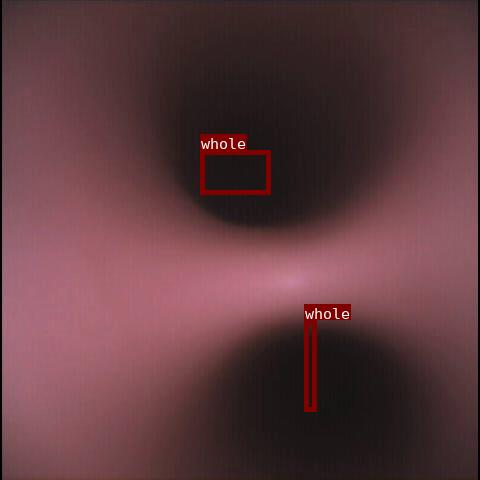whole: (200, 150, 270, 194), (304, 320, 316, 411)
